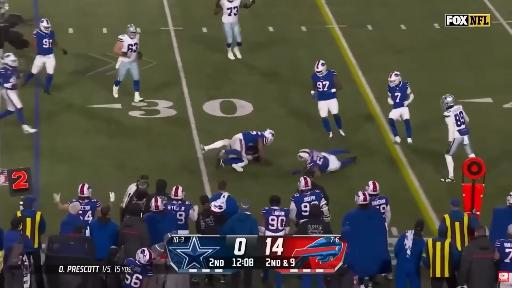Helmet: (136, 248, 153, 263), (210, 201, 226, 214), (2, 53, 18, 66), (78, 183, 92, 197), (315, 60, 327, 76), (355, 191, 369, 204), (151, 197, 164, 211), (441, 95, 454, 109), (298, 176, 311, 190), (39, 18, 51, 33), (171, 186, 184, 199), (366, 181, 379, 194), (389, 72, 401, 86), (263, 129, 274, 144), (298, 150, 310, 161), (127, 24, 136, 38), (507, 192, 511, 205)
Jersey: (291, 190, 326, 222), (124, 258, 153, 287), (443, 105, 469, 137), (165, 201, 193, 230), (262, 207, 290, 235), (312, 70, 336, 101), (69, 199, 101, 222), (388, 82, 411, 109), (118, 34, 139, 61), (495, 239, 511, 272), (34, 30, 55, 55), (242, 132, 268, 152), (307, 150, 329, 172), (220, 0, 241, 22), (0, 66, 18, 89), (370, 196, 389, 217)
Player: (201, 130, 274, 171), (441, 95, 475, 182), (0, 54, 36, 133), (311, 61, 344, 137), (24, 19, 57, 94), (214, 0, 255, 59), (113, 24, 143, 102), (290, 177, 330, 224), (54, 184, 101, 222), (388, 72, 413, 143), (164, 186, 198, 234), (298, 150, 357, 174), (365, 181, 390, 231), (259, 195, 290, 235), (259, 196, 290, 235), (365, 181, 390, 227), (124, 248, 153, 287), (494, 226, 511, 278)
